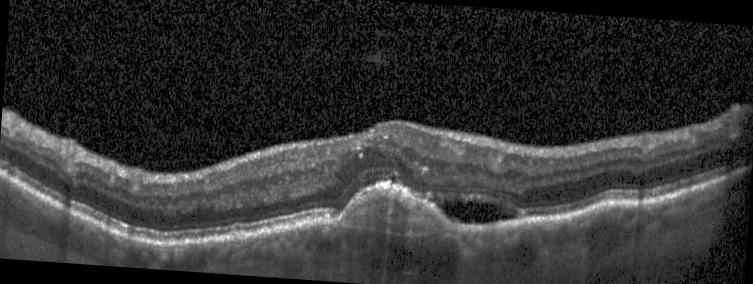neuroepithelium_detachment: (427, 198, 516, 225)
subretinal_fluid: (345, 190, 443, 233)
